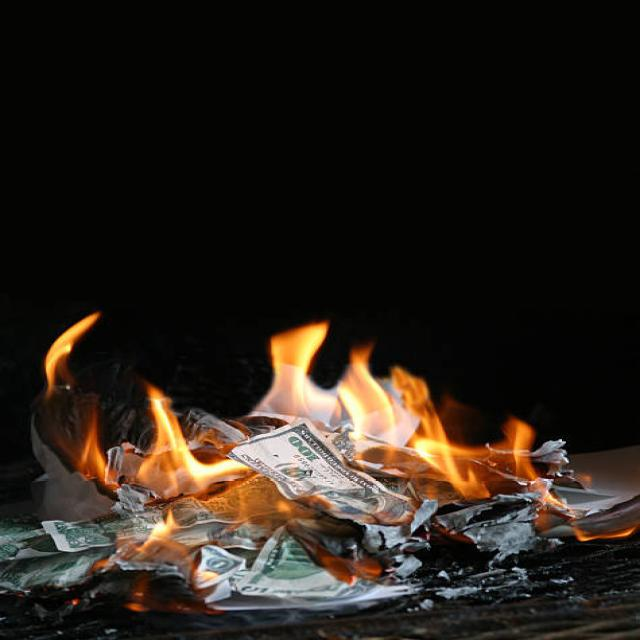fire: (135, 381, 250, 499), (253, 320, 335, 425), (337, 343, 395, 433), (44, 311, 101, 401), (393, 366, 447, 436), (423, 457, 491, 498), (502, 417, 539, 479), (78, 403, 106, 479), (415, 438, 488, 457)
